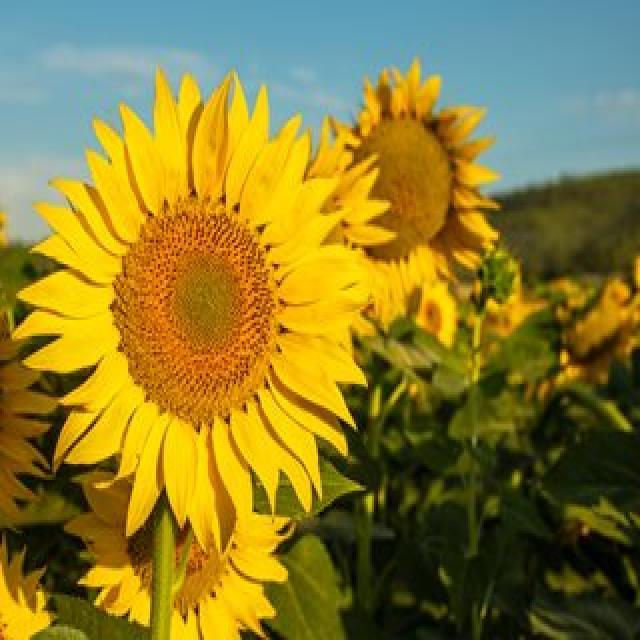sunflower: (12, 63, 372, 550), (306, 56, 502, 332), (64, 450, 296, 640), (518, 277, 640, 400), (0, 313, 56, 539), (0, 530, 52, 638), (472, 245, 521, 313), (414, 282, 457, 352)
